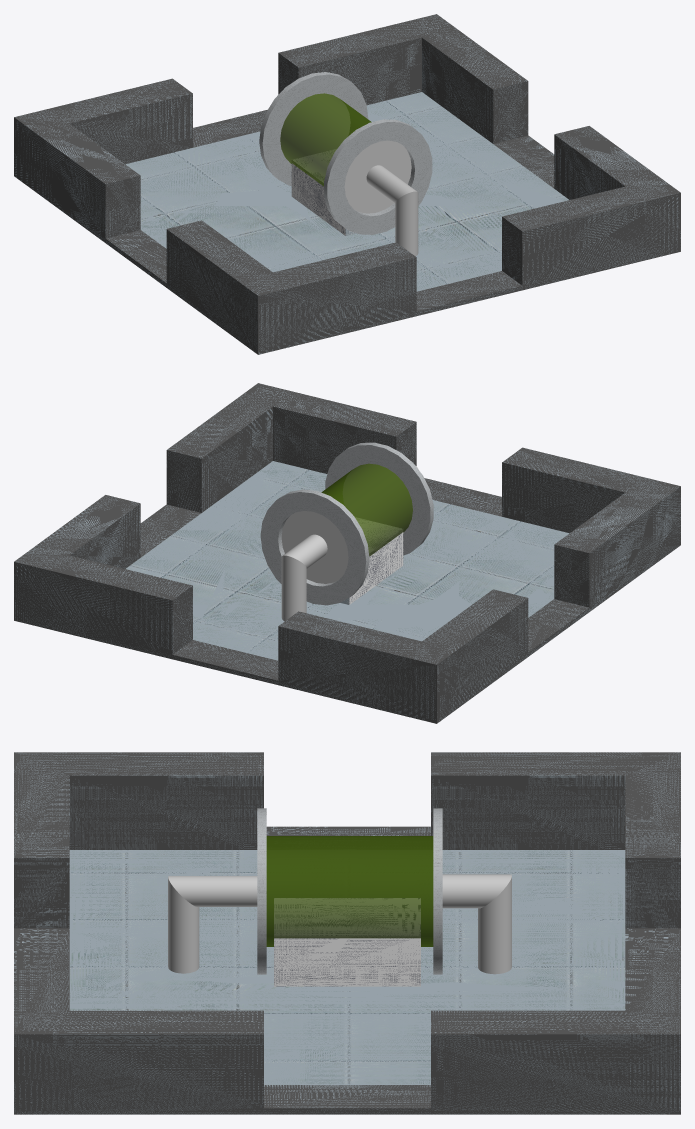
The model's file is Reactor.fbx.
3 renders of one model, top to bottom at view 1: azimuth 30°, elevation 25°; view 2: azimuth 150°, elevation 25°; view 3: azimuth 270°, elevation 25°, orthographic. The views are drawn at different scales.
Visible parts, largest first — view 1: Group1; view 2: Group1; view 3: Group1.
Boxes of the visible parts, x1,y1,x2,y2 form: Group1: (14,14,680,354); Group1: (14,383,680,723); Group1: (14,752,680,1114).
Size of the model in its own units: 144 by 37.5 by 144.
